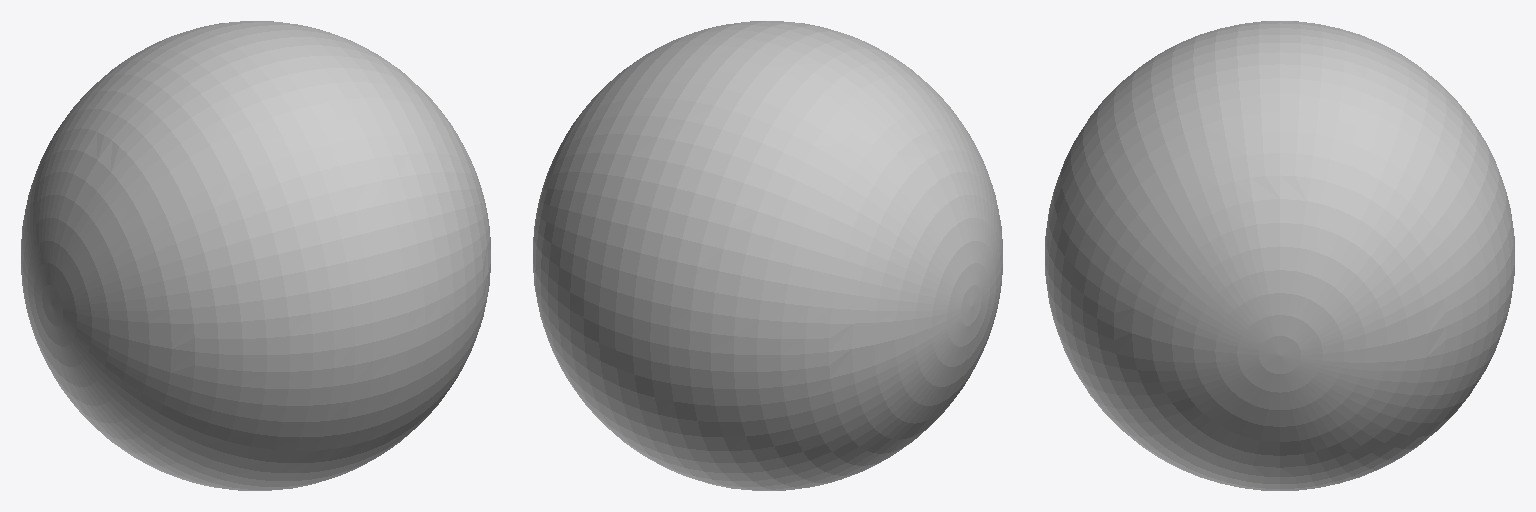
File: Asteroid1.obj
3 views of the same model, side by side, from view 1: azimuth 30°, elevation 25°; view 2: azimuth 150°, elevation 25°; view 3: azimuth 270°, elevation 25° (orthographic).
Visible parts, largest first — view 1: Asteroid; view 2: Asteroid; view 3: Asteroid.
Part boxes in pixels (left/top/right/bottom): Asteroid: left=21, top=21, right=490, bottom=490; Asteroid: left=533, top=21, right=1002, bottom=490; Asteroid: left=1045, top=21, right=1514, bottom=490.
Size of the model in its own units: 0.6778 by 0.6778 by 0.6778.